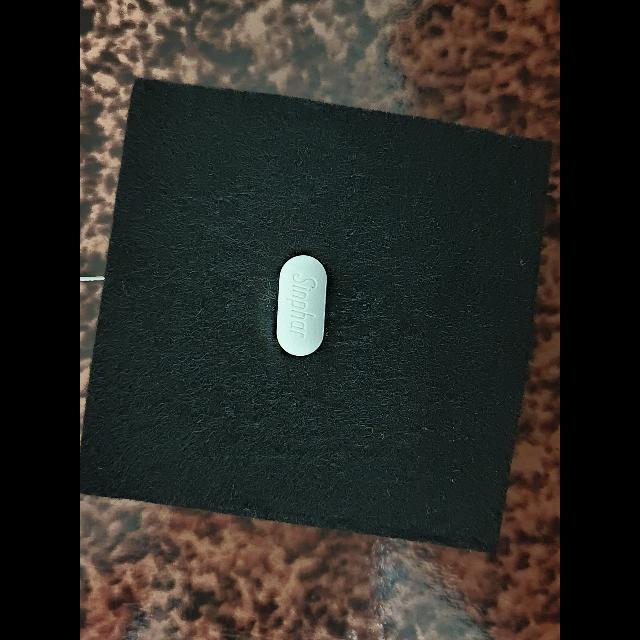Intact Pill: (277, 256, 327, 356)
